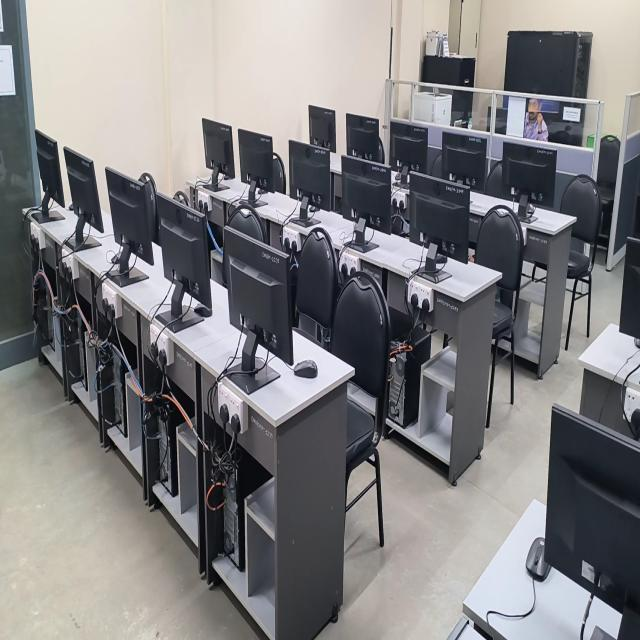Chair: (328, 272, 389, 546), (475, 206, 523, 427), (560, 174, 602, 350), (296, 228, 338, 337), (596, 135, 620, 247), (226, 204, 266, 241), (272, 152, 286, 193)
Cpu: (223, 475, 239, 566), (389, 354, 406, 424), (112, 353, 126, 434), (159, 420, 170, 487)
Monitor: (544, 406, 640, 605), (225, 230, 293, 373), (159, 196, 212, 319), (105, 168, 159, 284), (409, 171, 470, 263), (64, 148, 104, 250), (341, 155, 391, 233), (501, 143, 556, 207), (289, 140, 331, 210), (238, 130, 274, 207), (441, 132, 487, 192), (35, 129, 65, 219), (619, 239, 640, 338), (389, 120, 428, 173), (202, 119, 235, 178), (346, 114, 384, 163), (309, 105, 336, 152)
Mouse: (526, 537, 550, 581), (293, 359, 317, 378), (194, 305, 212, 317)
